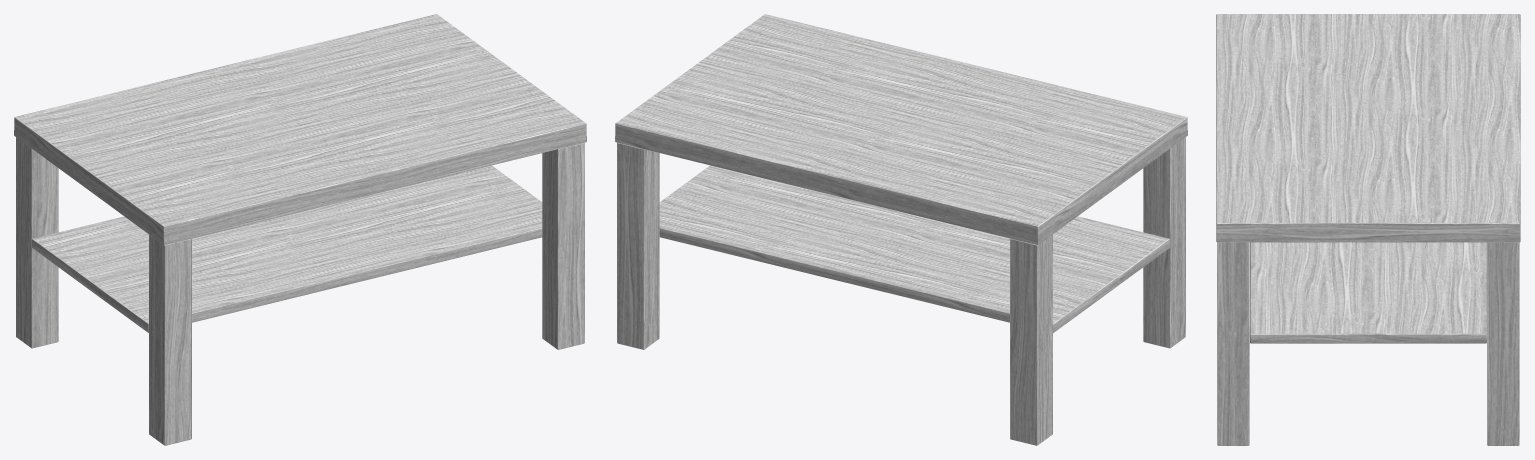
The model's file is thorkea_coffee_tables_grp.fbx.
The picture shows the model from 3 angles, left to right: view 1: azimuth 30°, elevation 25°; view 2: azimuth 150°, elevation 25°; view 3: azimuth 270°, elevation 25°; orthographic projection.
Visible parts, largest first — view 1: thorkea_coffee_table_1; view 2: thorkea_coffee_table_1; view 3: thorkea_coffee_table_1.
Boxes of the visible parts, box(x1,y1,x2,y2) form: thorkea_coffee_table_1: box(14, 14, 586, 445); thorkea_coffee_table_1: box(615, 14, 1187, 445); thorkea_coffee_table_1: box(1216, 14, 1520, 445).
Size of the model in its own units: 90.09 by 44.83 by 55.26.
Materials: 1 (1 with a texture image).
